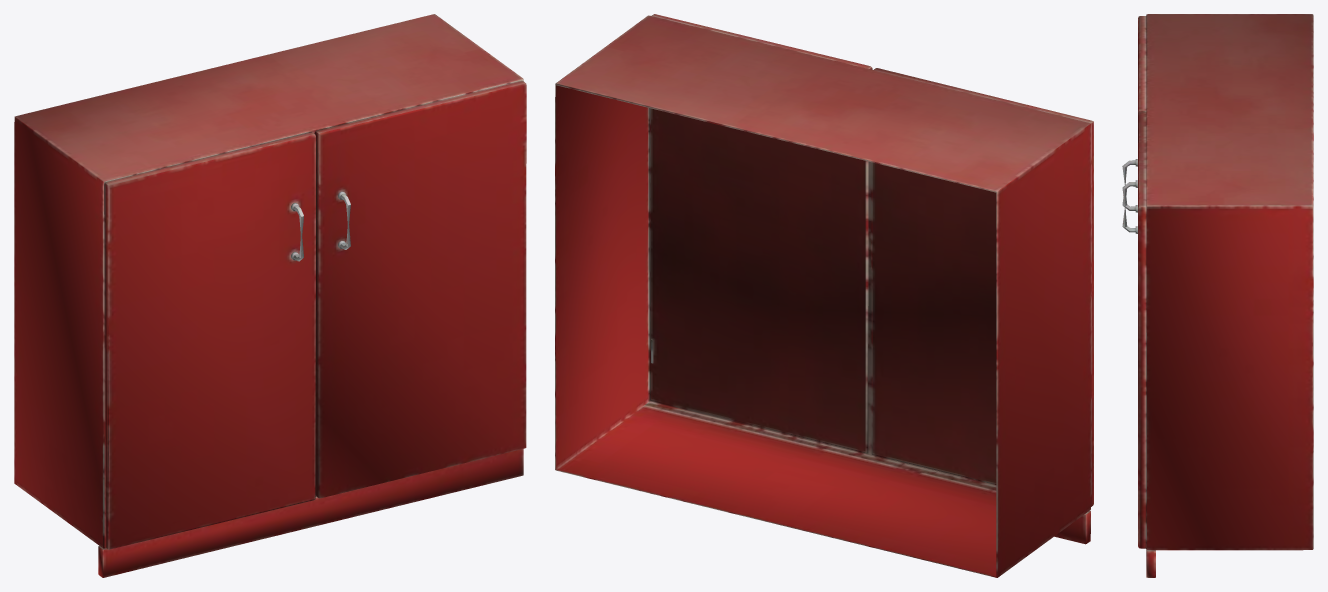
File: kit_upper_90_red-low.glb
3 views of the same model, side by side, from view 1: azimuth 30°, elevation 25°; view 2: azimuth 150°, elevation 25°; view 3: azimuth 270°, elevation 25° (orthographic). The views are drawn at different scales.
Parts seen in each view (by area): view 1: kit_upper_90_red-low; view 2: kit_upper_90_red-low; view 3: kit_upper_90_red-low.
Boxes of the visible parts, <box> form: kit_upper_90_red-low: <box>14,14,526,577</box>; kit_upper_90_red-low: <box>555,14,1093,577</box>; kit_upper_90_red-low: <box>1122,14,1313,577</box>.
Size of the model in its own units: 0.8975 by 0.81 by 0.3768.
Materials: 1 (1 with a texture image).
